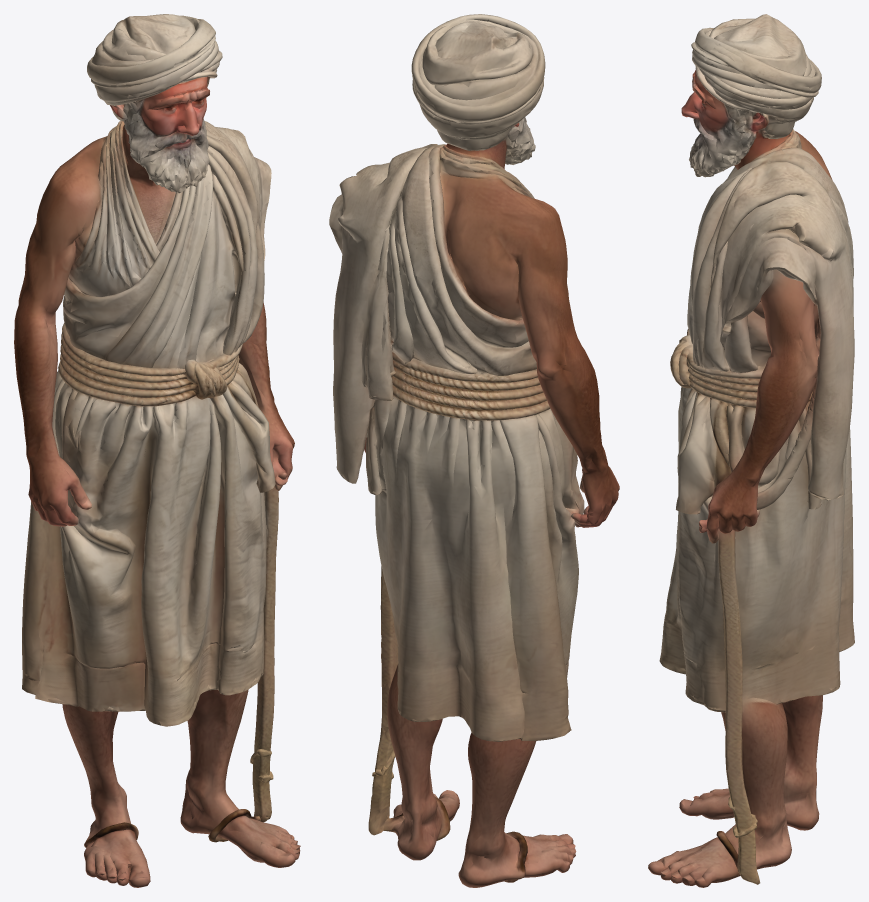
Rendered from crowd_shepherd_rodin_source.glb.
3 views of the same model, side by side, from view 1: azimuth 30°, elevation 25°; view 2: azimuth 150°, elevation 25°; view 3: azimuth 270°, elevation 25° (orthographic). The views are drawn at different scales.
Visible parts, largest first — view 1: model; view 2: model; view 3: model.
Boxes of the visible parts, bbox=[...] form: model: bbox=[14, 14, 300, 887]; model: bbox=[329, 14, 619, 887]; model: bbox=[648, 14, 854, 887].
Size of the model in its own units: 0.6063 by 1.91 by 0.4371.
Materials: 1 (1 with a texture image).
